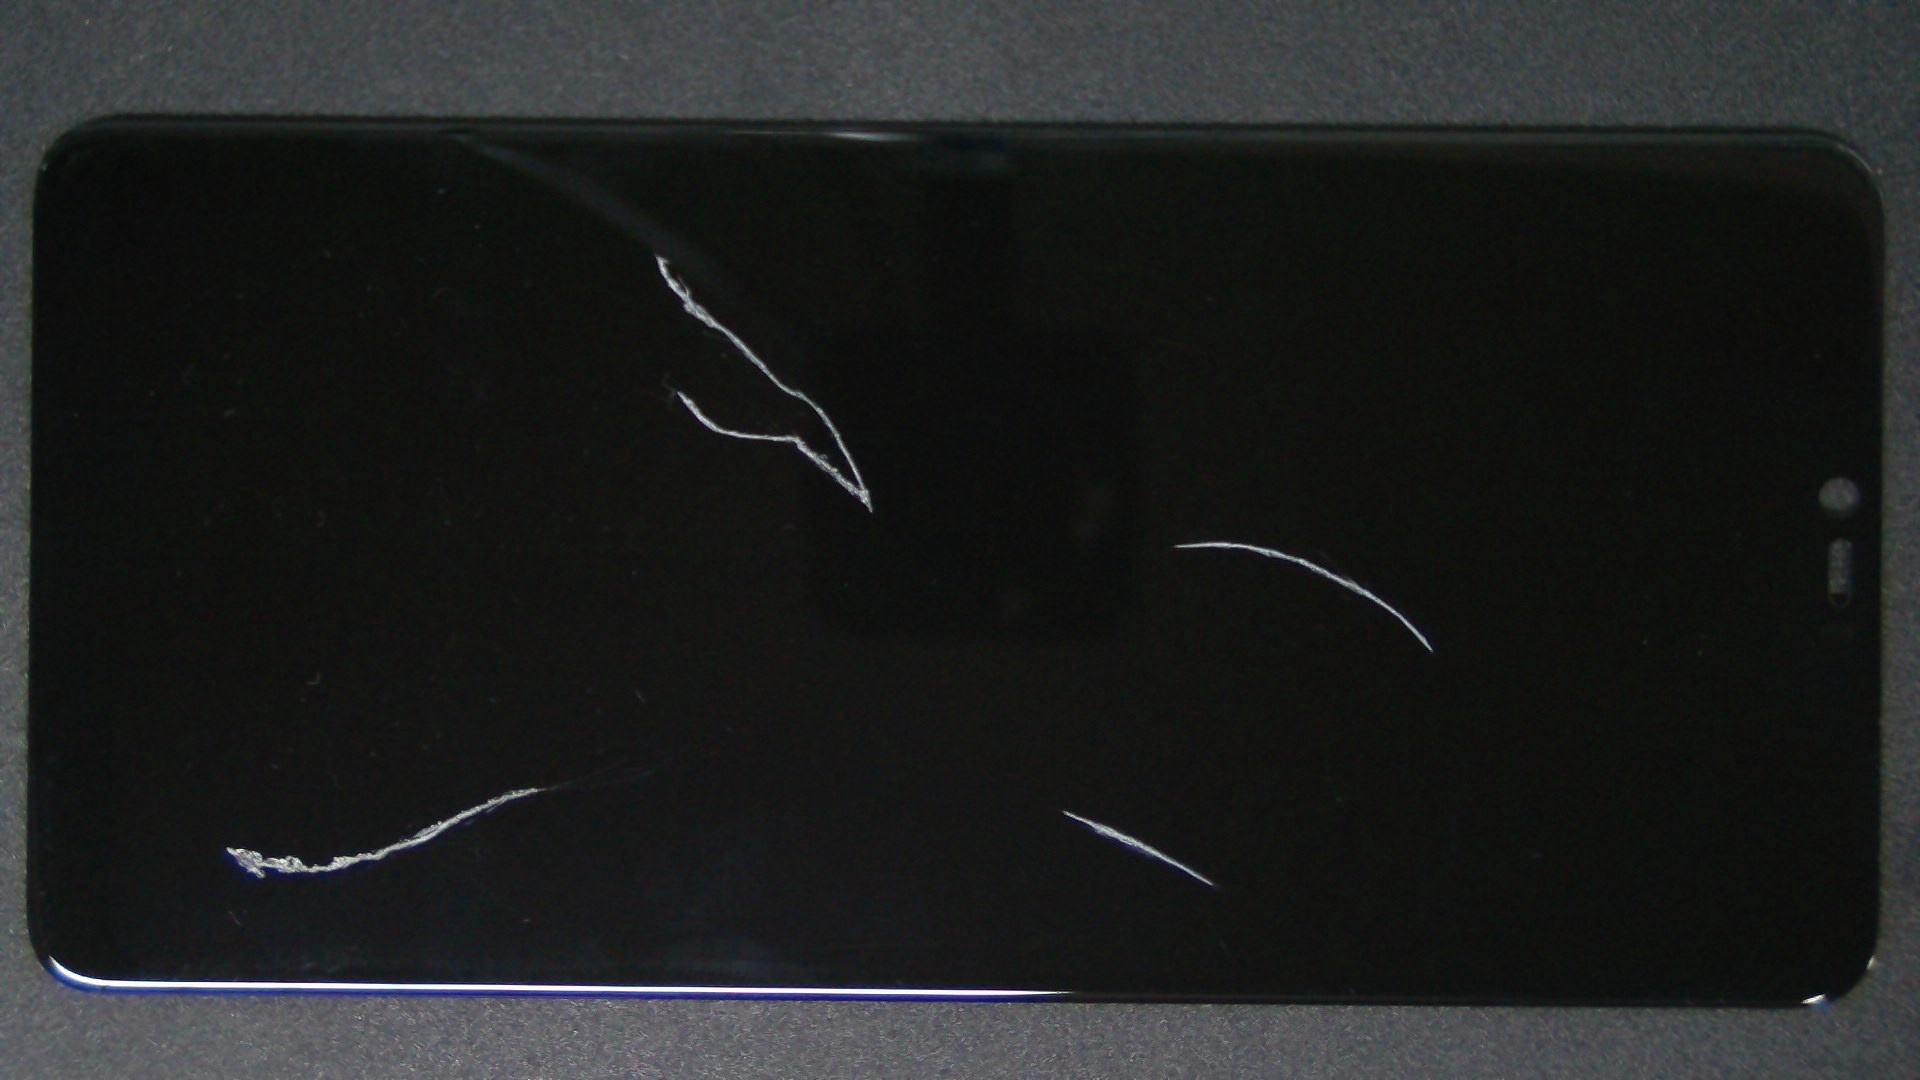oil: (530, 405, 1592, 1080), (611, 269, 1828, 811), (278, 393, 832, 1080), (327, 125, 981, 382)
